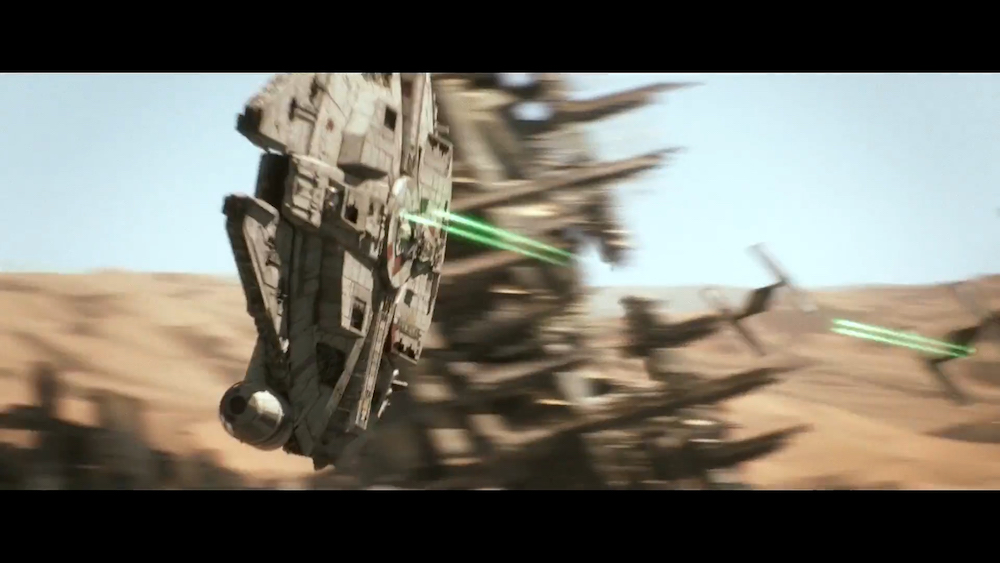Millennium Falcon: (219, 74, 454, 472)
Tie Fighter: (698, 245, 818, 360), (902, 289, 1000, 410)
